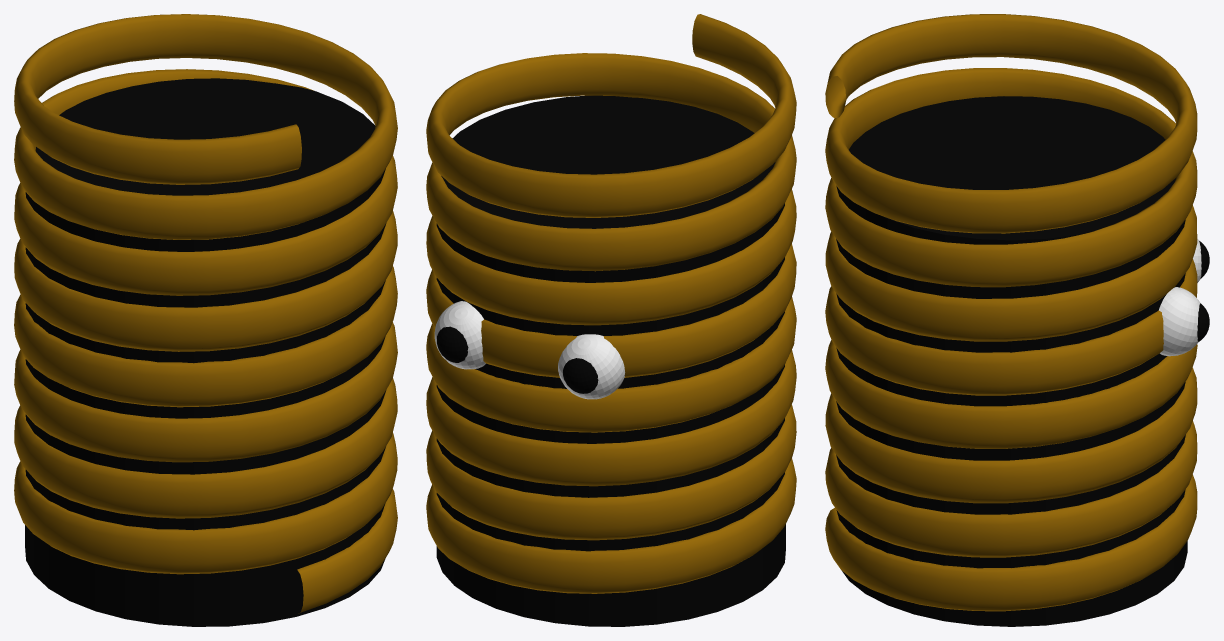
Rendered from Inductor.fbx.
3 renders of one model, left to right at view 1: azimuth 30°, elevation 25°; view 2: azimuth 150°, elevation 25°; view 3: azimuth 270°, elevation 25°, orthographic. The views are drawn at different scales.
Parts seen in each view (by area): view 1: Spiral.001, Cylinder; view 2: Spiral.001, Cylinder, Sphere.001, Sphere, Sphere.003, Sphere.004; view 3: Spiral.001, Cylinder, Sphere.
Boxes of the visible parts, bbox=[...] form: Spiral.001: bbox=[14, 14, 397, 612]; Cylinder: bbox=[25, 78, 386, 626]; Spiral.001: bbox=[426, 14, 796, 593]; Cylinder: bbox=[436, 95, 785, 626]; Sphere.001: bbox=[558, 334, 625, 399]; Sphere: bbox=[434, 301, 485, 369]; Sphere.003: bbox=[563, 358, 598, 393]; Sphere.004: bbox=[437, 326, 468, 362]; Spiral.001: bbox=[825, 14, 1197, 611]; Cylinder: bbox=[836, 96, 1187, 626]; Sphere: bbox=[1159, 287, 1200, 356].
Bounding box in the file's own units: 212 × 299 × 219.
